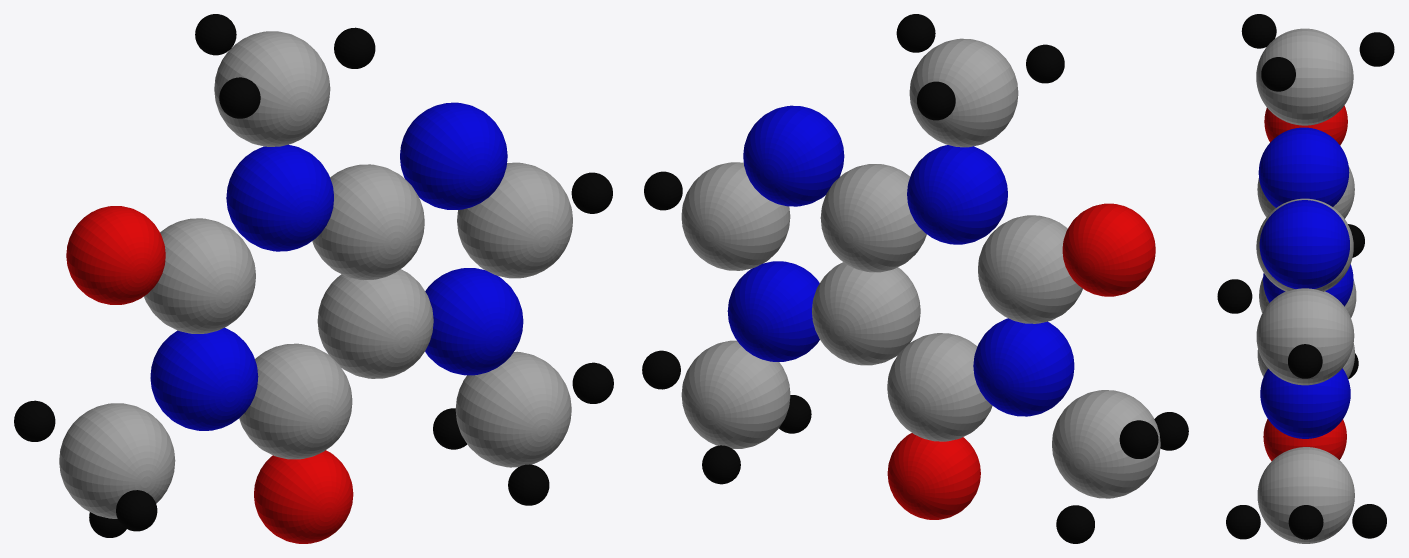
The model's file is Caffeine.glb.
3 renders of one model, left to right at view 1: azimuth 30°, elevation 25°; view 2: azimuth 150°, elevation 25°; view 3: azimuth 270°, elevation 25°, orthographic. The views are drawn at different scales.
Visible parts, largest first — view 1: world; view 2: world; view 3: world.
Part boxes in pixels (x1,y1,x2,y2): world: [14, 14, 613, 543]; world: [642, 14, 1188, 543]; world: [1217, 14, 1394, 543].
Bounding box in the file's own units: 7.93 × 6.82 × 2.54.
